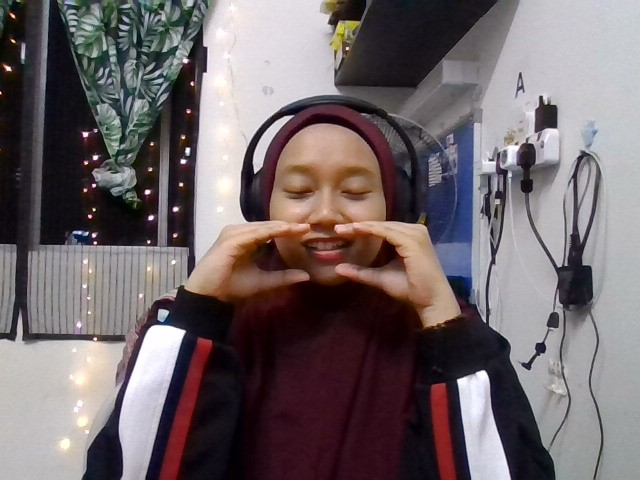Burger: (183, 218, 454, 303)
